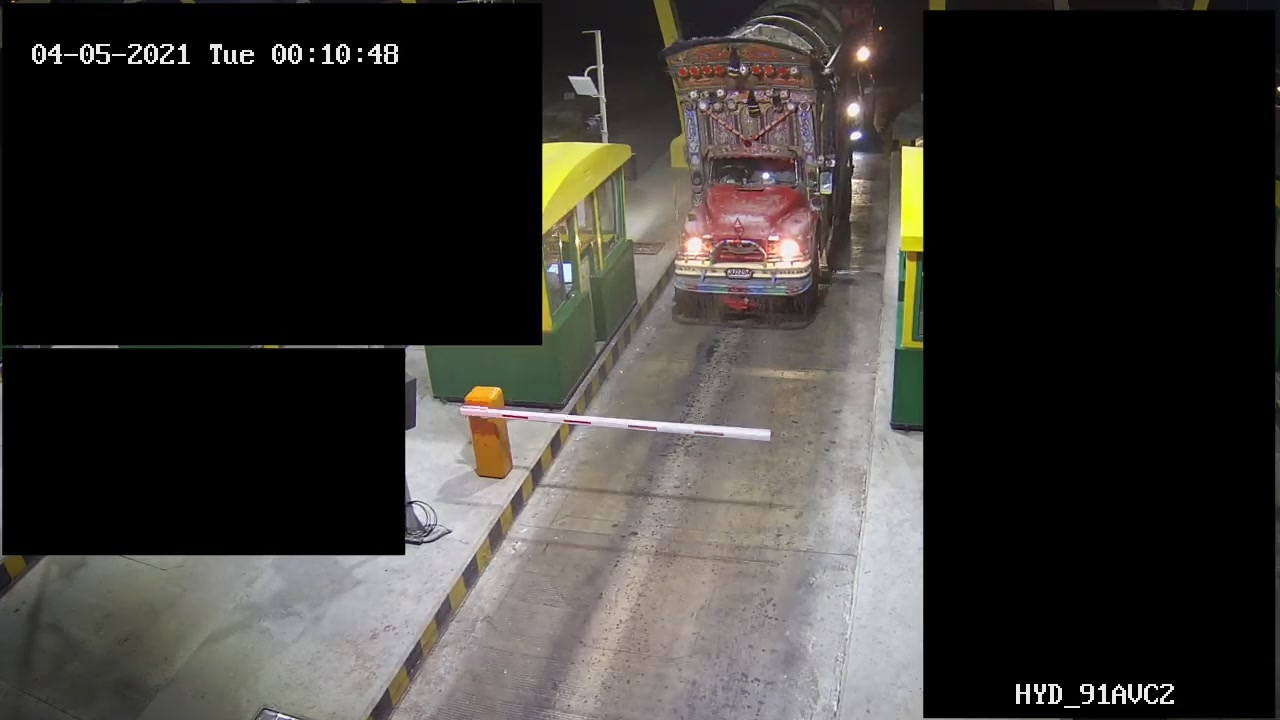F5: (659, 1, 875, 320)
